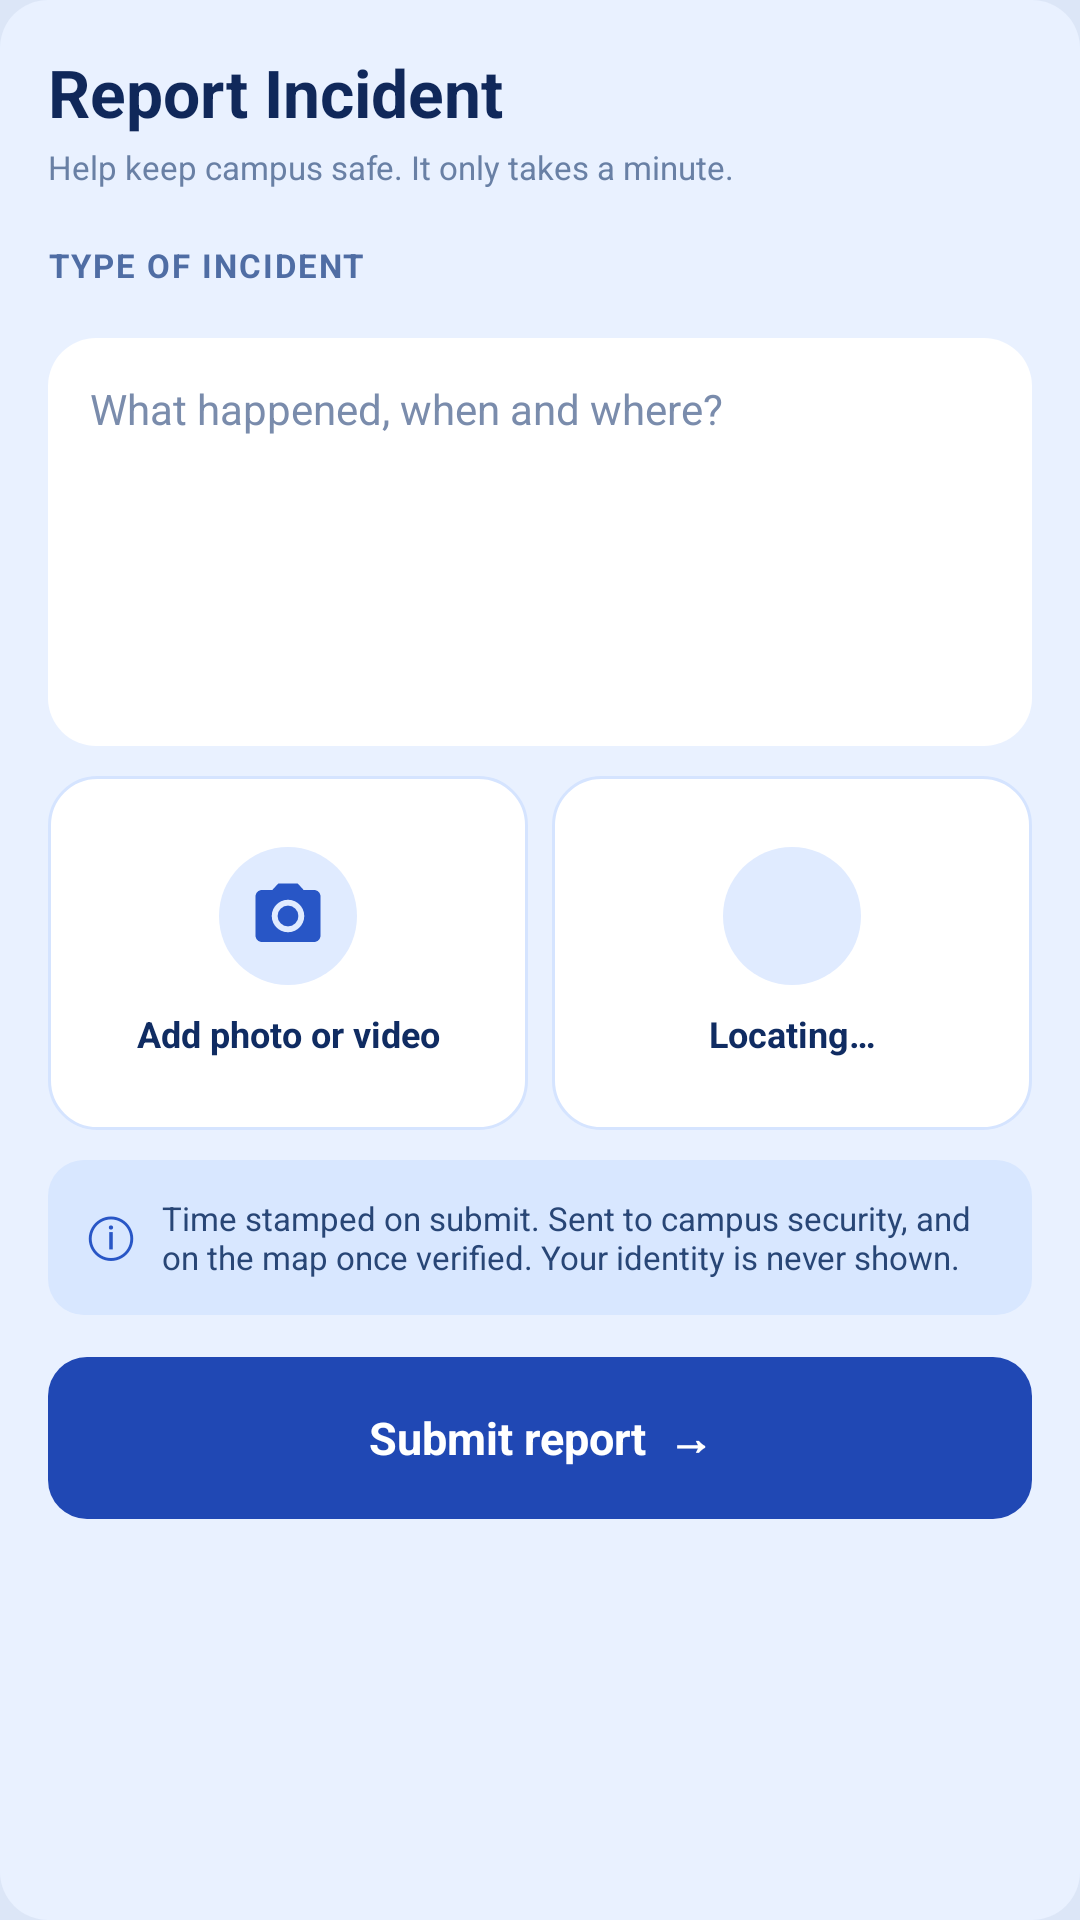

Named icons in this screenshot (1080x1920) and their bounding boxes, (x1, y1, x2, y2):
camera: (219, 847, 357, 985)
